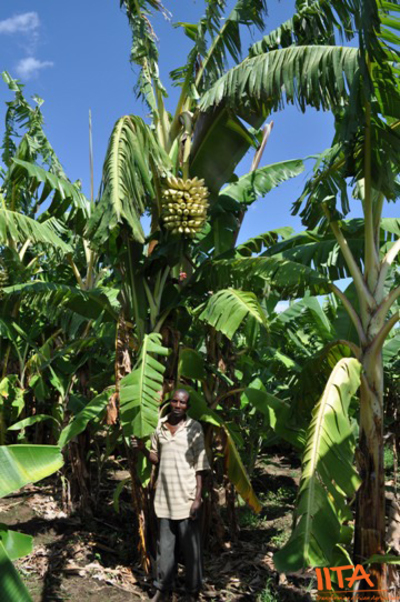bananaHand: (158, 171, 213, 238)
